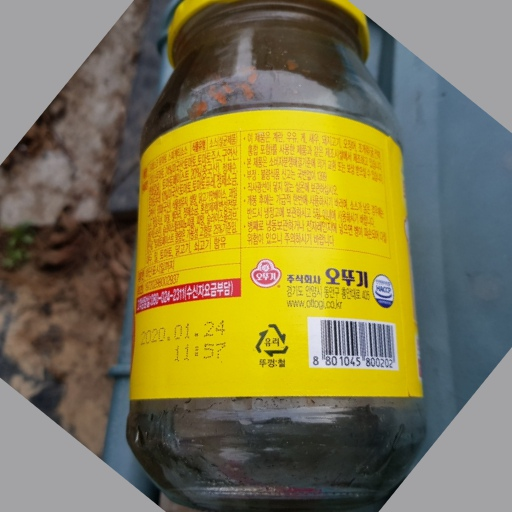Glass_5: (130, 1, 425, 503)
